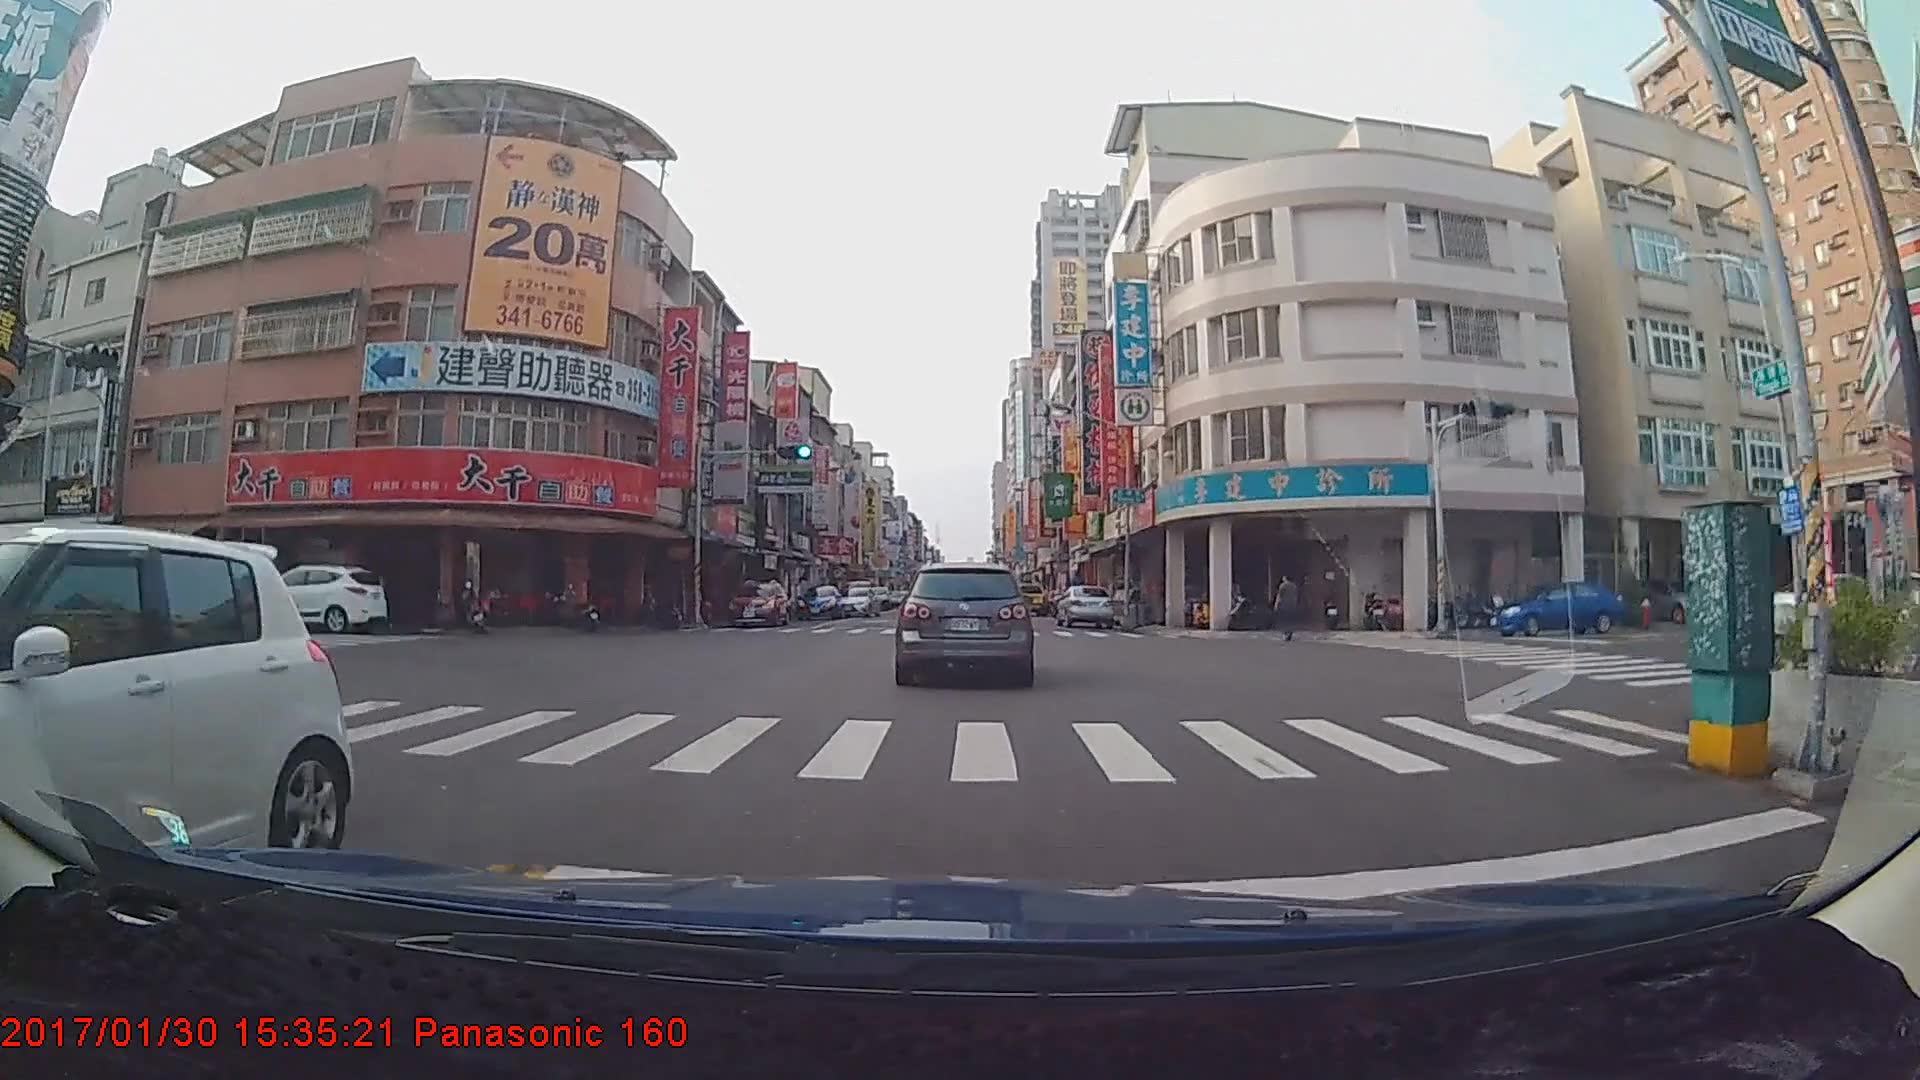pedestrian: (1275, 574, 1302, 648)
vehicle: (0, 518, 348, 921), (894, 560, 1034, 687), (231, 561, 387, 634), (1488, 582, 1619, 639), (1623, 570, 1720, 628), (727, 577, 788, 627), (1052, 582, 1115, 627), (795, 581, 843, 617), (834, 586, 880, 615), (1010, 581, 1047, 615)
